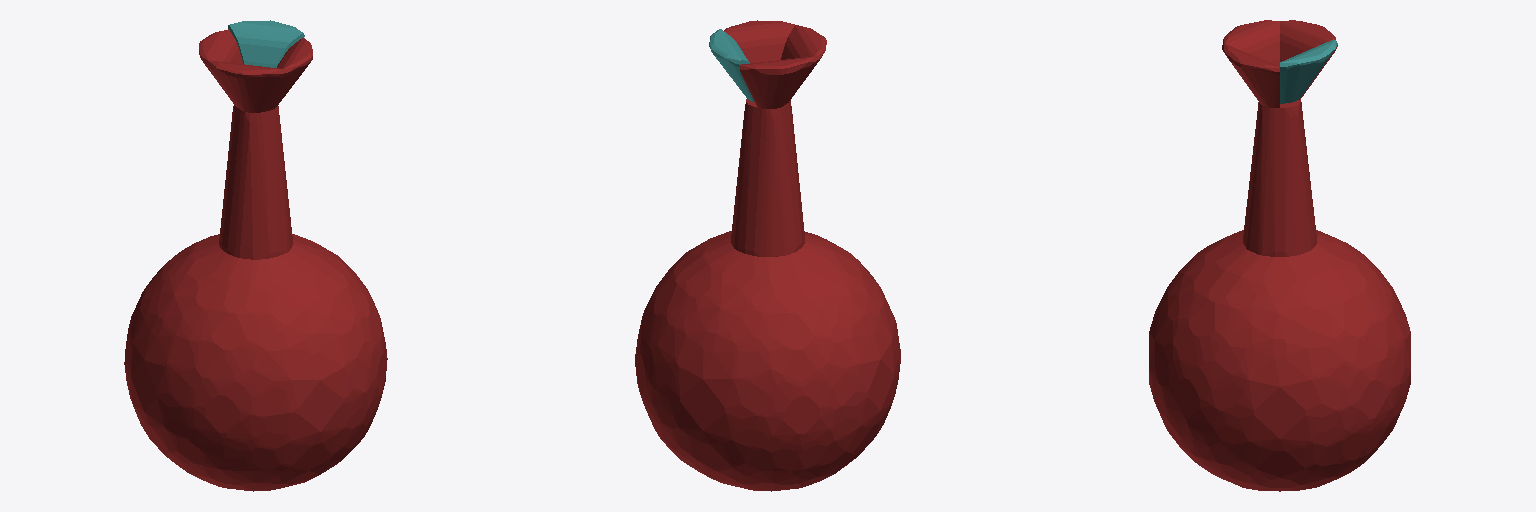
The robot description file, URDF, robot "root":
<robot name="root">
  <link name="bottle_body">
    <inertial>
      <origin xyz="0 0 0" rpy="0 0 0"/>
    </inertial>
    <mass value="1.00E-02"/>
    <visual>
      <origin xyz="0 0 0" rpy="0 0 0"/>
      <geometry>
        <mesh filename="core-bottle-807ef57d3d9d13eeccf25325b962dc82-coacd_convex_piece_4.obj" scale="1.0000E-01 1.0000E-01 1.0000E-01"/>
      </geometry>
      <material name="">
        <color rgba="6.00E-01 2.00E-01 2.00E-01 1"/>
      </material>
    </visual>
    <collision>
      <origin xyz="0 0 0" rpy="0 0 0"/>
      <geometry>
        <mesh filename="core-bottle-807ef57d3d9d13eeccf25325b962dc82-coacd_convex_piece_4.obj" scale="1.0000E-01 1.0000E-01 1.0000E-01"/>
      </geometry>
    </collision>
    <visual>
      <origin xyz="0 0 0" rpy="0 0 0"/>
      <geometry>
        <mesh filename="core-bottle-807ef57d3d9d13eeccf25325b962dc82-coacd_convex_piece_0.obj" scale="1.0000E-01 1.0000E-01 1.0000E-01"/>
      </geometry>
      <material name="">
        <color rgba="6.00E-01 2.00E-01 2.00E-01 1"/>
      </material>
    </visual>
    <collision>
      <origin xyz="0 0 0" rpy="0 0 0"/>
      <geometry>
        <mesh filename="core-bottle-807ef57d3d9d13eeccf25325b962dc82-coacd_convex_piece_0.obj" scale="1.0000E-01 1.0000E-01 1.0000E-01"/>
      </geometry>
    </collision>
    <visual>
      <origin xyz="0 0 0" rpy="0 0 0"/>
      <geometry>
        <mesh filename="core-bottle-807ef57d3d9d13eeccf25325b962dc82-coacd_convex_piece_2.obj" scale="1.0000E-01 1.0000E-01 1.0000E-01"/>
      </geometry>
      <material name="">
        <color rgba="6.00E-01 2.00E-01 2.00E-01 1"/>
      </material>
    </visual>
    <collision>
      <origin xyz="0 0 0" rpy="0 0 0"/>
      <geometry>
        <mesh filename="core-bottle-807ef57d3d9d13eeccf25325b962dc82-coacd_convex_piece_2.obj" scale="1.0000E-01 1.0000E-01 1.0000E-01"/>
      </geometry>
    </collision>
    <visual>
      <origin xyz="0 0 0" rpy="0 0 0"/>
      <geometry>
        <mesh filename="core-bottle-807ef57d3d9d13eeccf25325b962dc82-coacd_convex_piece_5.obj" scale="1.0000E-01 1.0000E-01 1.0000E-01"/>
      </geometry>
      <material name="">
        <color rgba="6.00E-01 2.00E-01 2.00E-01 1"/>
      </material>
    </visual>
    <collision>
      <origin xyz="0 0 0" rpy="0 0 0"/>
      <geometry>
        <mesh filename="core-bottle-807ef57d3d9d13eeccf25325b962dc82-coacd_convex_piece_5.obj" scale="1.0000E-01 1.0000E-01 1.0000E-01"/>
      </geometry>
    </collision>
    <visual>
      <origin xyz="0 0 0" rpy="0 0 0"/>
      <geometry>
        <mesh filename="core-bottle-807ef57d3d9d13eeccf25325b962dc82-coacd_convex_piece_1.obj" scale="1.0000E-01 1.0000E-01 1.0000E-01"/>
      </geometry>
      <material name="">
        <color rgba="6.00E-01 2.00E-01 2.00E-01 1"/>
      </material>
    </visual>
    <collision>
      <origin xyz="0 0 0" rpy="0 0 0"/>
      <geometry>
        <mesh filename="core-bottle-807ef57d3d9d13eeccf25325b962dc82-coacd_convex_piece_1.obj" scale="1.0000E-01 1.0000E-01 1.0000E-01"/>
      </geometry>
    </collision>
  </link>
  <link name="bottle_cap">
    <origin xyz="0 0 0.002" rpy="0 0 0"/>
    <mass value="1.00E-02"/>
    <visual>
      <origin xyz="0 0 0.002" rpy="0 0 0"/>
      <geometry>
        <mesh filename="core-bottle-807ef57d3d9d13eeccf25325b962dc82-coacd_convex_piece_3.obj" scale="1.0000E-01 1.0000E-01 1.0000E-01"/>
      </geometry>
      <material name="">
        <color rgba="3.00E-01 6.00E-01 6.00E-01 1"/>
      </material>
    </visual>
    <collision>
      <origin xyz="0 0 0.002" rpy="0 0 0"/>
      <geometry>
        <mesh filename="core-bottle-807ef57d3d9d13eeccf25325b962dc82-coacd_convex_piece_3.obj" scale="1.0000E-01 1.0000E-01 1.0000E-01"/>
      </geometry>
    </collision>
  </link>
  <joint name="bottle_cap_joint" type="revolute">
    <origin xyz="0 0 0" rpy="0 0 0"/>
    <parent link="bottle_body"/>
    <child link="bottle_cap"/>
    <axis xyz="0 0 1"/>
    <limit lower="0.00" upper="6.28"/>
    <dynamics damping="0.05"/>
  </joint>
</robot>

--- Render facts (derived) ---
3 views of the same robot in one strip: view 1: azimuth 30°, elevation 25°; view 2: azimuth 150°, elevation 25°; view 3: azimuth 270°, elevation 25° (orthographic).
Robot: root — 2 links, 1 joints (1 revolute); root link bottle_body; default pose: every joint at zero.
Visible links, largest first — view 1: bottle_body, bottle_cap; view 2: bottle_body, bottle_cap; view 3: bottle_body, bottle_cap.
Boxes of the visible links, x1,y1,x2,y2 form: bottle_body: (124, 29, 387, 491); bottle_cap: (228, 20, 304, 67); bottle_body: (635, 20, 900, 491); bottle_cap: (709, 29, 754, 101); bottle_body: (1149, 20, 1410, 491); bottle_cap: (1280, 39, 1337, 103).
Bounding box of the posed robot: 0.1037 × 0.1037 × 0.1929 m (x, y, z).
Meshes: 6 distinct files referenced, 6 mesh visuals loaded (6 OBJ).